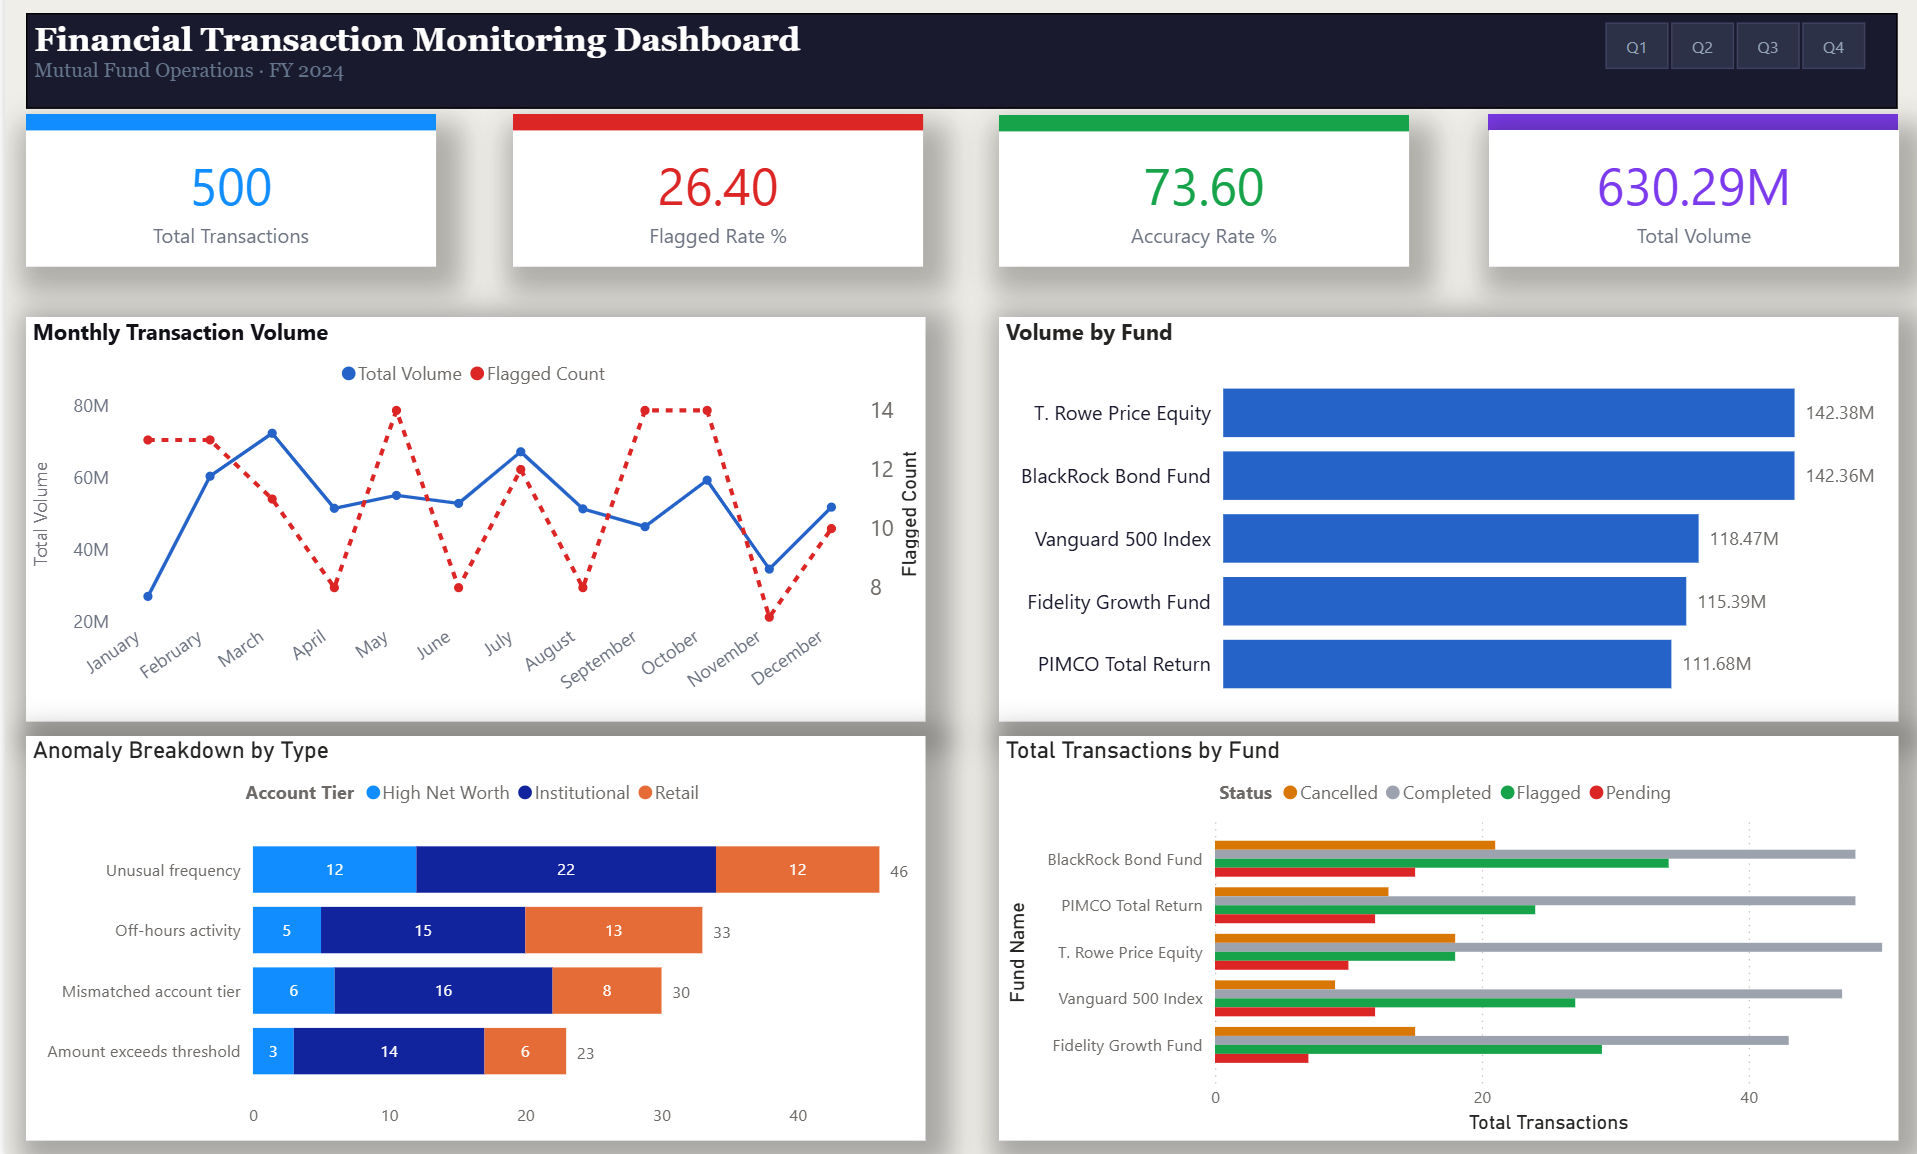

The dashboard page shown, as its layout file describes it:
{"tool":"powerbi","page":{"name":"Financial Transactions Monitoring Dashboard","canvas":[1400,850],"ordinal":0},"visuals":[{"type":"textbox","box":[15.4,13.1,1369.2,70],"z":0},{"type":"card","fields":{"Values":["_Measures.Total Transactions"]},"box":[15.4,98.8,299.9,100.2],"z":1000},{"type":"card","fields":{"Values":["_Measures.Flagged Rate %"]},"box":[371.6,98.8,299.9,100.2],"z":2000},{"type":"card","fields":{"Values":["_Measures.Accuracy Rate %"]},"box":[727.1,98.8,299.9,100.2],"z":3000},{"type":"shape","box":[15.4,87,299.9,12.4],"z":4000},{"type":"shape","box":[371.6,87,299.9,11.7],"z":5000},{"type":"shape","box":[727.1,87.8,299.9,12.4],"z":6000},{"type":"shape","box":[1084.8,87,299.9,12.4],"z":7000},{"type":"card","fields":{"Values":["_Measures.Total Volume"]},"box":[1085.5,98.8,299.9,100.2],"z":8000},{"type":"lineChart","title":"Monthly Transaction Volume","fields":{"Category":["DateTable.Month Name"],"Y":["_Measures.Total Volume"],"Y2":["_Measures.Flagged Count"]},"box":[15.4,235.5,658.3,296.3],"z":9000},{"type":"clusteredBarChart","title":"Volume by Fund ","fields":{"Category":["financial_transactions.Fund_Name"],"Y":["_Measures.Total Volume"]},"box":[727.1,235.5,657.6,296.3],"z":10000},{"type":"barChart","title":"Anomaly Breakdown by Type","fields":{"Category":["financial_transactions.Anomaly_Reason"],"Y":["_Measures.Flagged Count"],"Series":["financial_transactions.Account_Tier"]},"box":[15,542,658,296],"z":11000},{"type":"clusteredBarChart","title":"Total Transactions by Fund","fields":{"Category":["financial_transactions.Fund_Name"],"Y":["_Measures.Total Transactions"],"Series":["financial_transactions.Status"]},"box":[727,542,658,296],"z":12000},{"type":"slicer","fields":{"Values":["DateTable.Quarter"]},"box":[1144.8,13.2,239.9,48.3],"z":13000}]}

Visuals, with their boxes in screenshot pixels (x1, y1, x2, y2), scaled from the page's 1400x850 canvas onto the 1917x1154 screenshot:
textbox: 21:18:1896:113
card - _Measures.Total Transactions: 21:134:432:270
card - _Measures.Flagged Rate %: 509:134:919:270
card - _Measures.Accuracy Rate %: 996:134:1406:270
shape: 21:118:432:135
shape: 509:118:919:134
shape: 996:119:1406:136
shape: 1485:118:1896:135
card - _Measures.Total Volume: 1486:134:1897:270
"Monthly Transaction Volume" lineChart: 21:320:922:722
"Volume by Fund " clusteredBarChart: 996:320:1896:722
"Anomaly Breakdown by Type" barChart: 21:736:922:1138
"Total Transactions by Fund" clusteredBarChart: 995:736:1896:1138
slicer - DateTable.Quarter: 1568:18:1896:83
